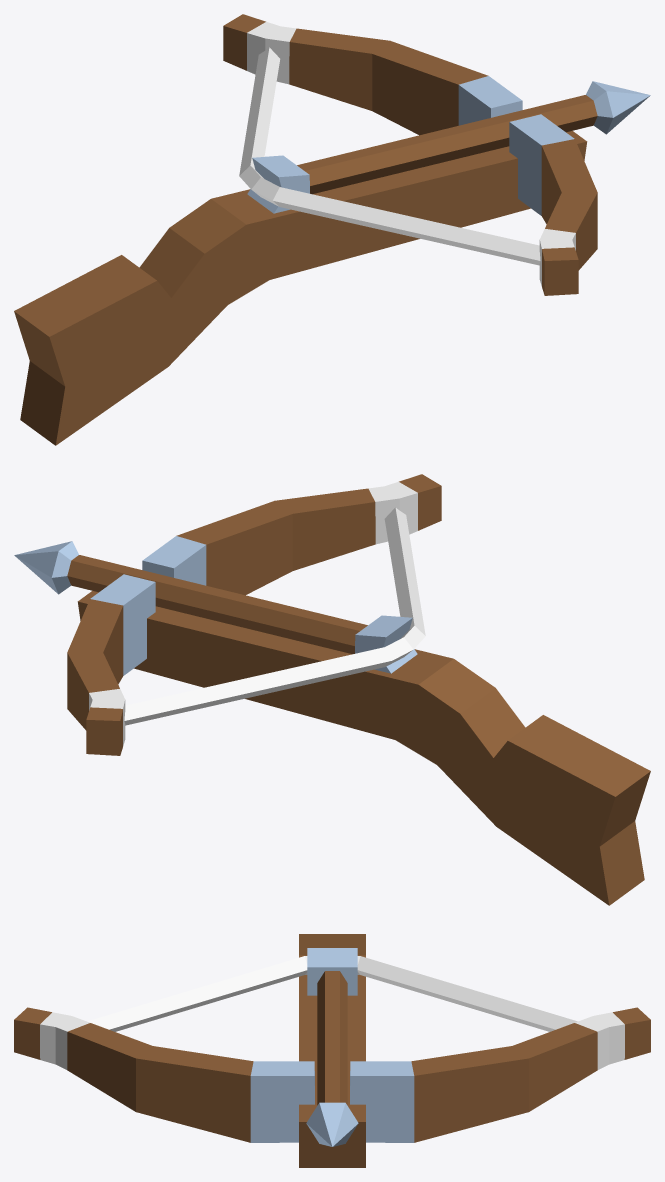
File: crossbow.fbx
3 renders of one model, top to bottom at view 1: azimuth 30°, elevation 25°; view 2: azimuth 150°, elevation 25°; view 3: azimuth 270°, elevation 25°, orthographic. The views are drawn at different scales.
Parts seen in each view (by area): view 1: Weapon_Crossbow.001; view 2: Weapon_Crossbow.001; view 3: Weapon_Crossbow.001.
Boxes of the visible parts, x1,y1,x2,y2 form: Weapon_Crossbow.001: [14, 14, 650, 445]; Weapon_Crossbow.001: [14, 474, 650, 905]; Weapon_Crossbow.001: [14, 934, 650, 1167].
Size of the model in its own units: 80.69 by 26.13 by 75.76.
